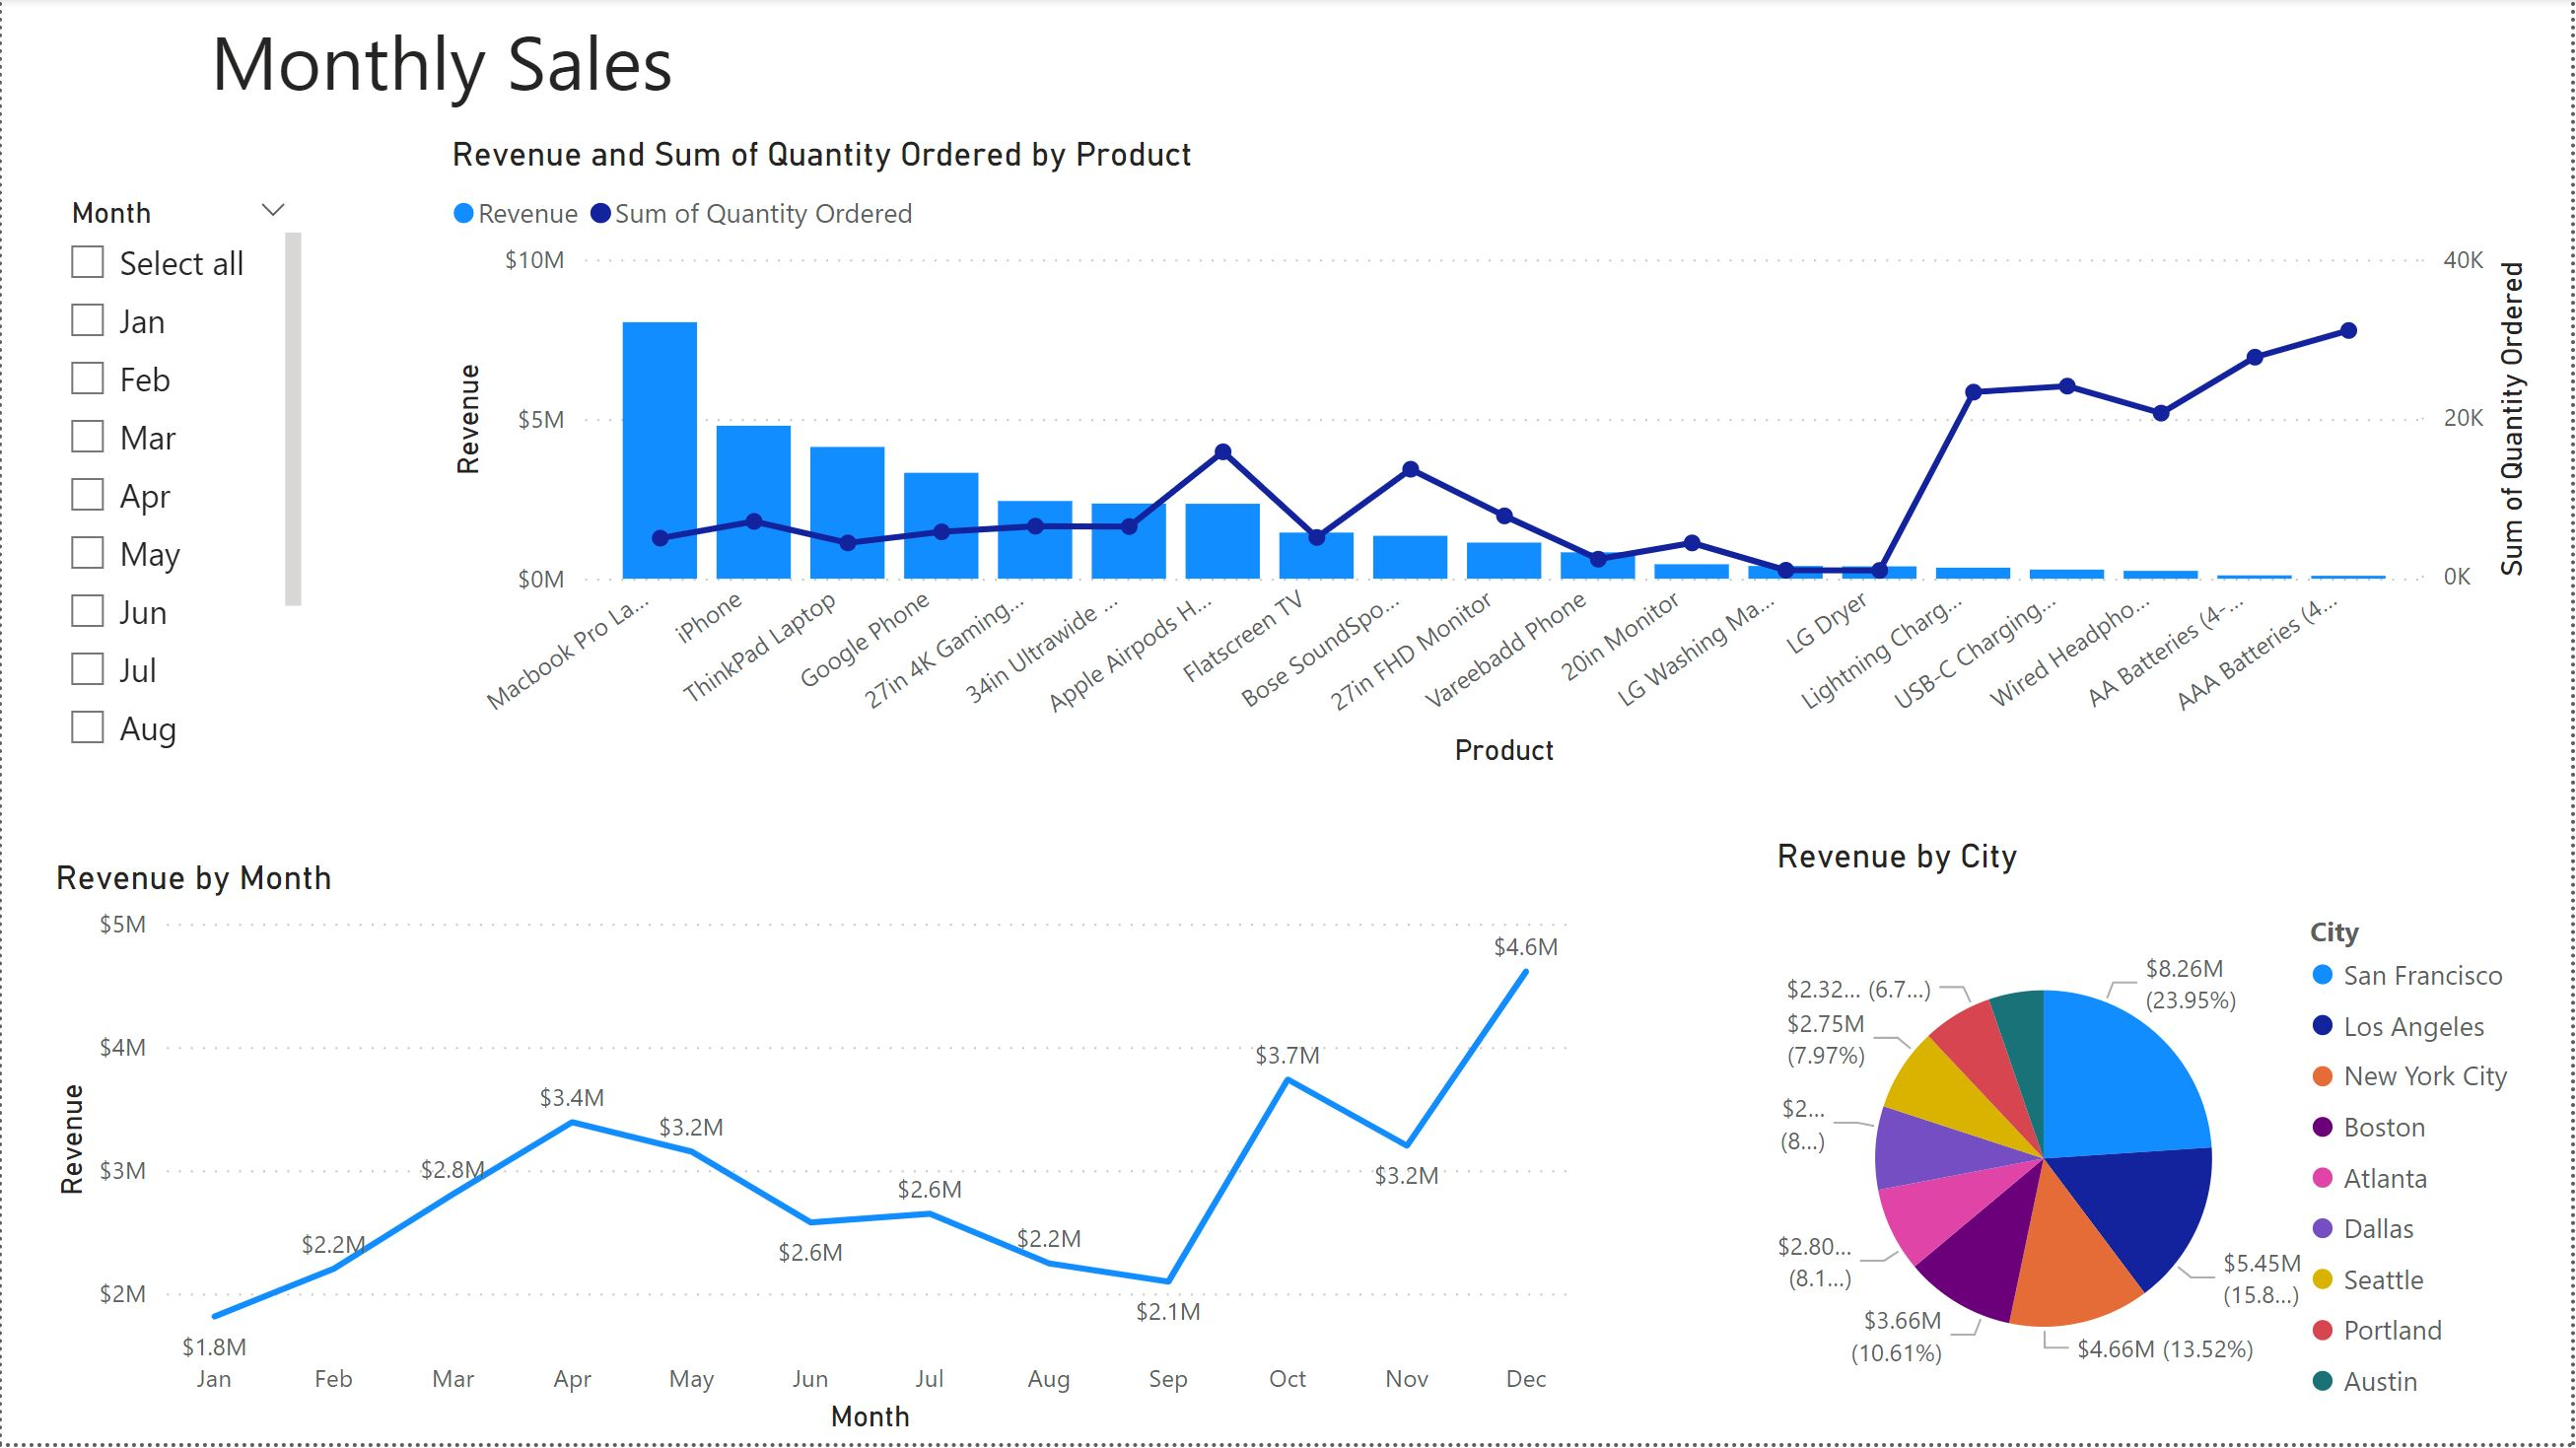

This screenshot's page, from the dashboard's own definition file:
{"tool":"powerbi","page":{"name":"Monthly Sales","canvas":[1280,720],"ordinal":1},"visuals":[{"type":"lineChart","fields":{"Category":["Date.Month"],"Y":["sales_data.Revenue"]},"box":[21.2,428.8,766.2,291.2],"z":0},{"type":"lineStackedColumnComboChart","fields":{"Category":["sales_data.Product"],"Y":["sales_data.Revenue"],"Y2":["Sum(sales_data.Quantity Ordered)"]},"box":[218.8,67.5,1043.8,320],"z":1000},{"type":"slicer","fields":{"Values":["Date.Month"]},"box":[21.2,93.8,132.5,293.8],"z":2000},{"type":"textbox","box":[79.2,0,279.2,67.5],"z":5000},{"type":"pieChart","fields":{"Y":["sales_data.Revenue"],"Category":["sales_data.City"]},"box":[878.8,417.5,383.8,302.5],"z":6000}]}

Visuals, with their boxes in screenshot pixels (x1, y1, x2, y2), scaled from the page's 1280x720 canvas onto the 2576x1448 screenshot:
lineChart - Date.Month x sales_data.Revenue: bbox(42, 862, 1584, 1447)
lineStackedColumnComboChart - sales_data.Product x sales_data.Revenue: bbox(441, 136, 2541, 780)
slicer - Date.Month: bbox(42, 188, 310, 780)
textbox: bbox(160, 0, 722, 136)
pieChart - sales_data.Revenue x sales_data.City: bbox(1769, 840, 2541, 1447)
